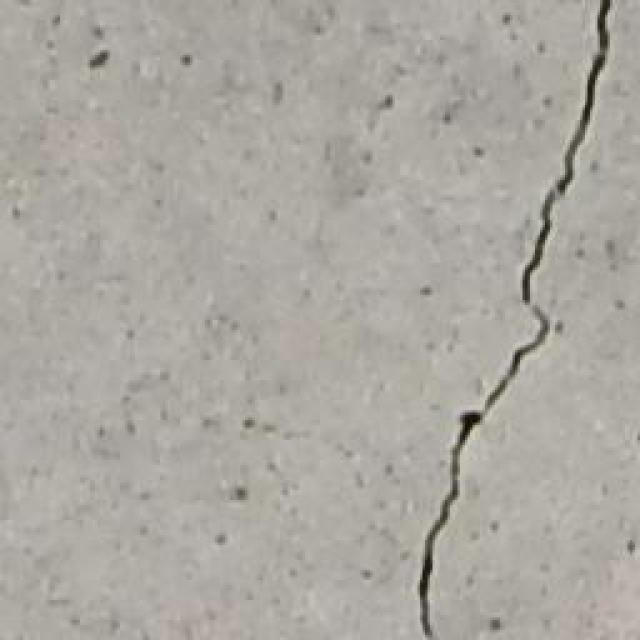concrete-crack: (412, 308, 550, 640), (522, 0, 612, 308)
